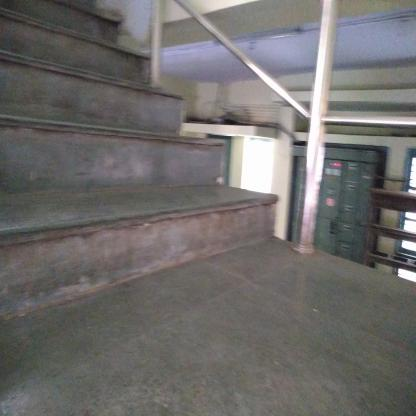stairs: (1, 11, 125, 317)
